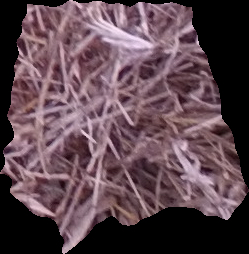soil: (2, 2, 248, 254)
